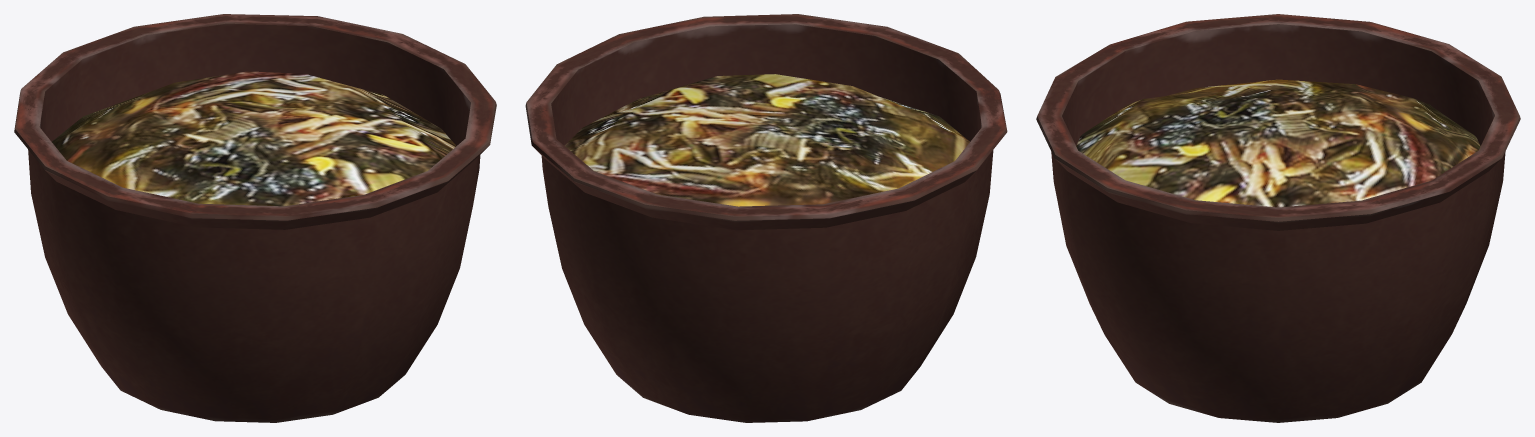
File: guk.glb
3 views of the same model, side by side, from view 1: azimuth 30°, elevation 25°; view 2: azimuth 150°, elevation 25°; view 3: azimuth 270°, elevation 25° (orthographic).
Parts seen in each view (by area): view 1: SM_Earthenware_Bowl, SM_Rice_Soup; view 2: SM_Earthenware_Bowl, SM_Rice_Soup; view 3: SM_Earthenware_Bowl, SM_Rice_Soup.
Part boxes in pixels (x1,y1,x2,y2): SM_Earthenware_Bowl: (14, 14, 496, 422); SM_Rice_Soup: (52, 71, 456, 206); SM_Earthenware_Bowl: (525, 14, 1007, 422); SM_Rice_Soup: (564, 74, 969, 206); SM_Earthenware_Bowl: (1036, 14, 1520, 422); SM_Rice_Soup: (1076, 79, 1480, 207).
Size of the model in its own units: 0.1885 by 0.1039 by 0.1885.
Materials: 2 (2 with a texture image).
